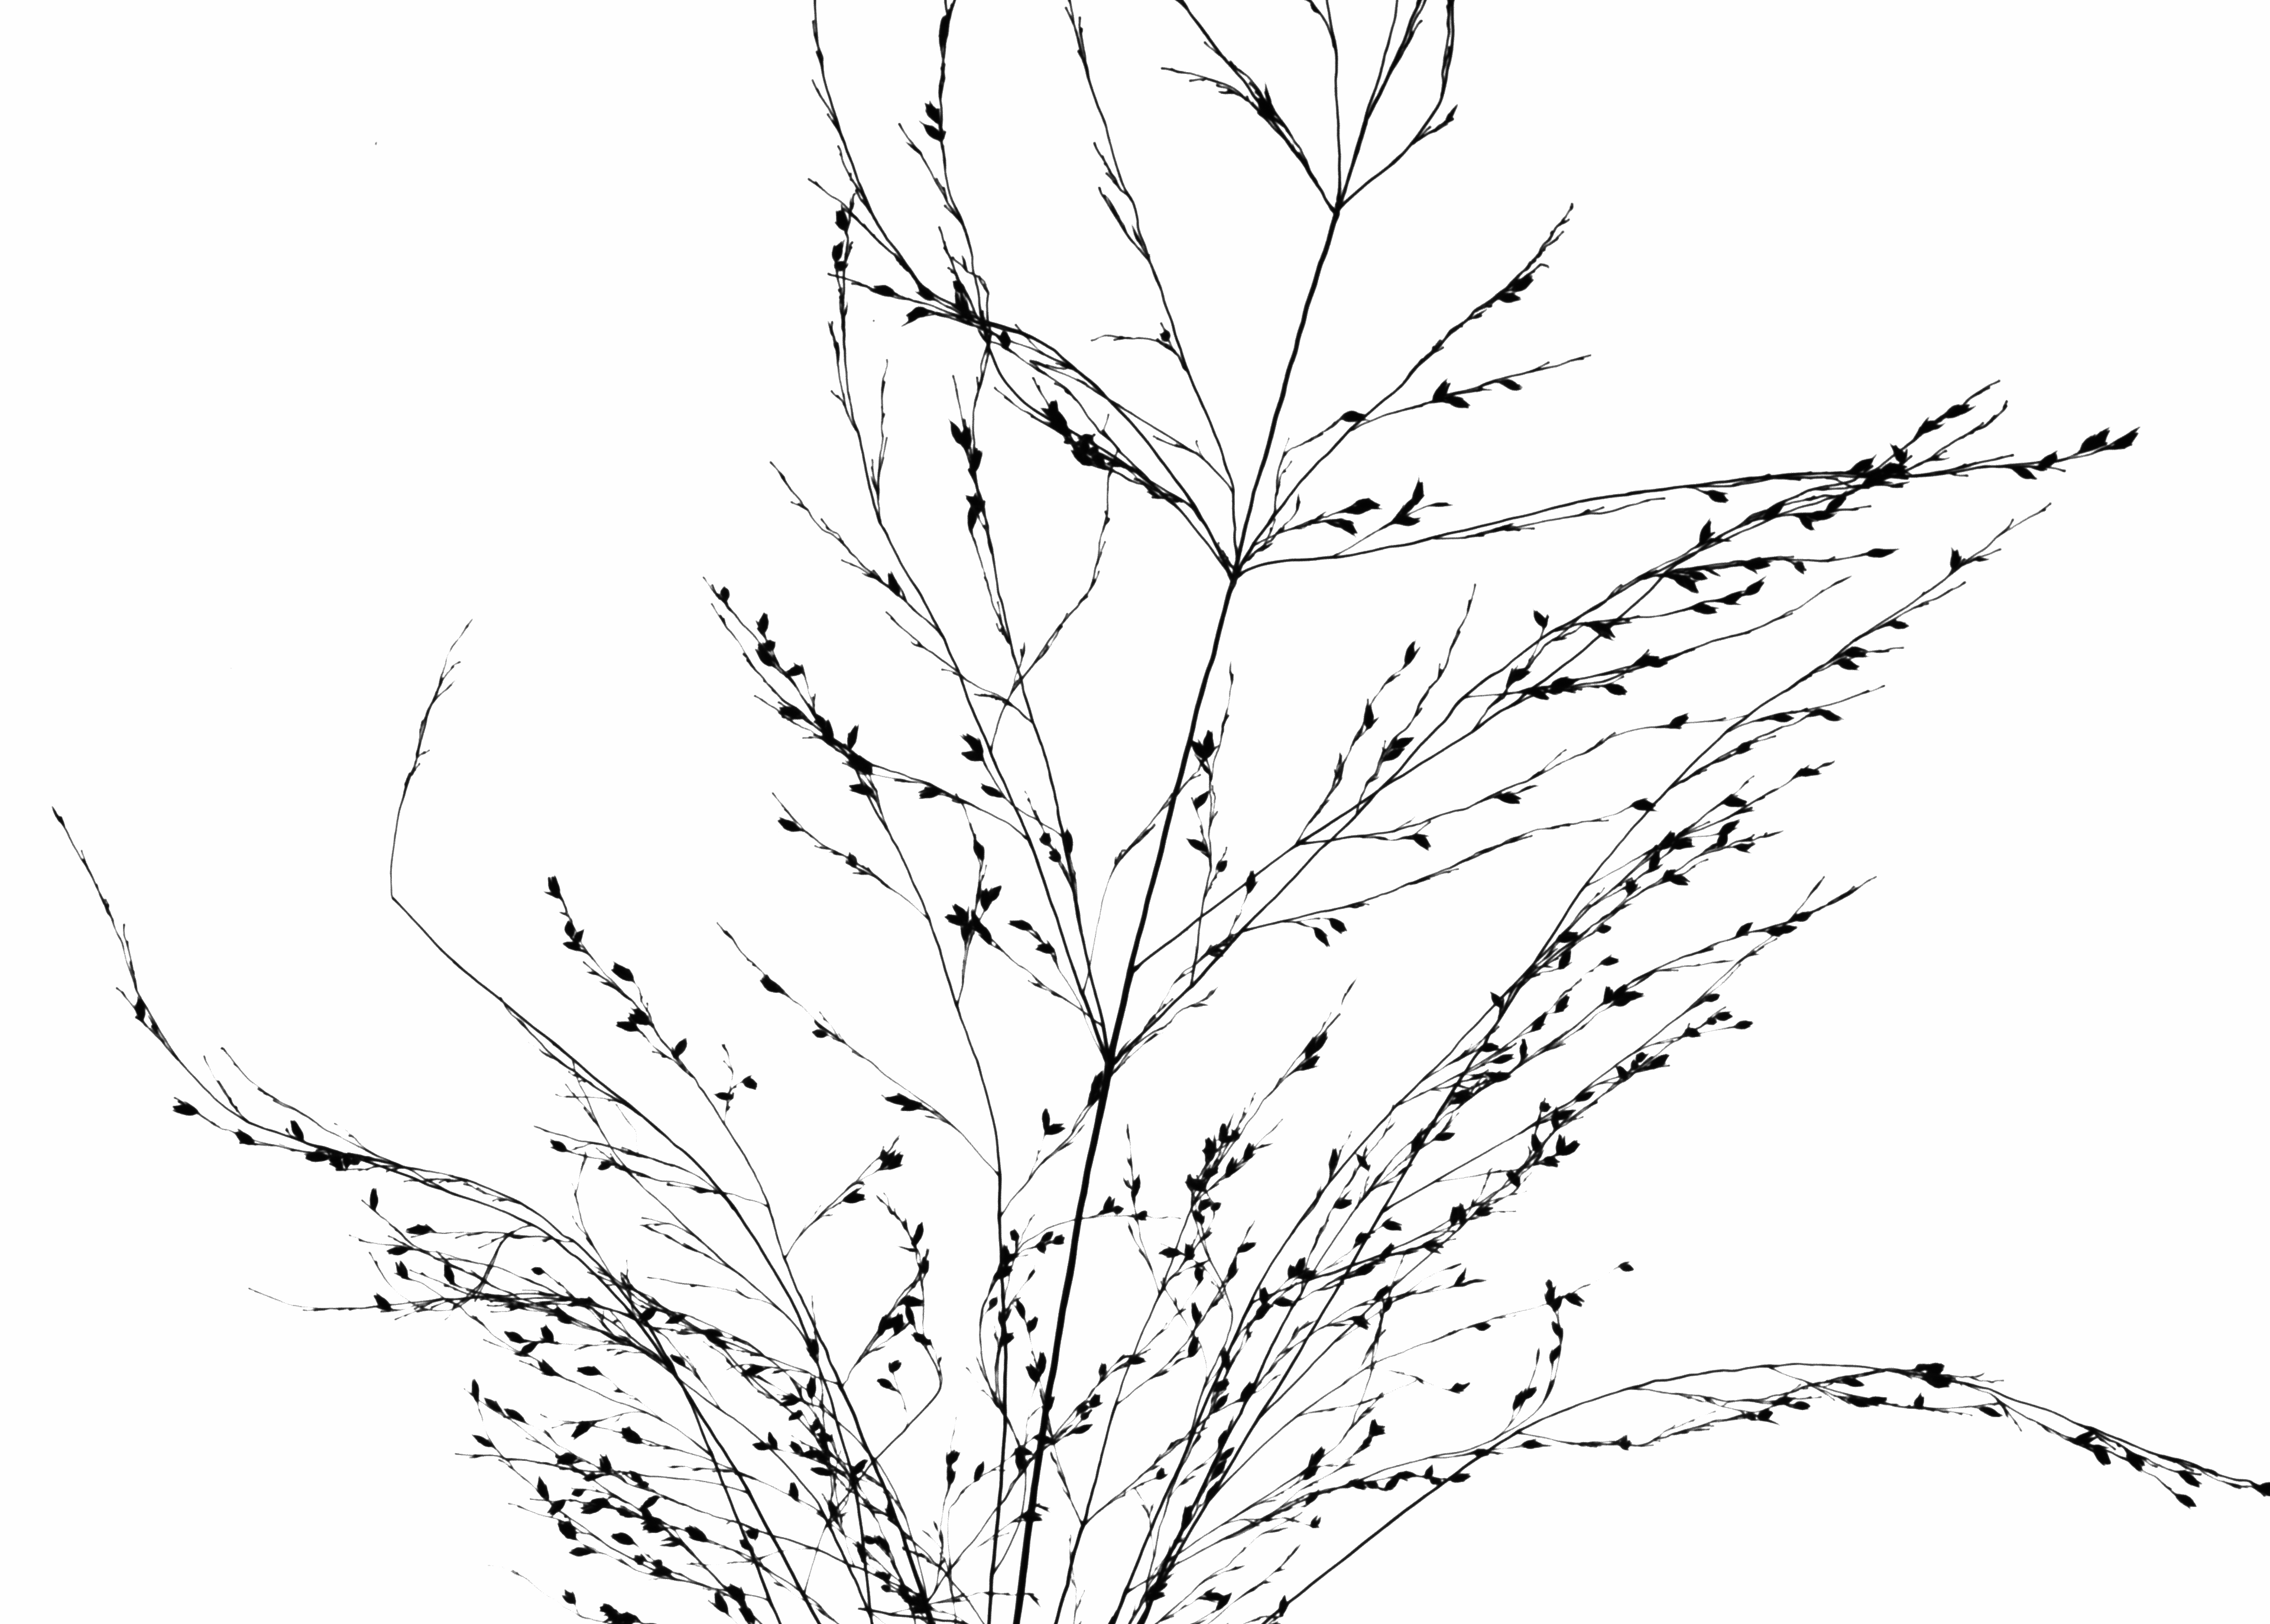seed: (2073, 425, 2112, 453), (2121, 1441, 2149, 1480), (1343, 492, 1382, 517), (2114, 424, 2143, 455), (1844, 452, 1881, 476), (1085, 1067, 1106, 1107), (1586, 617, 1619, 642), (1321, 517, 1359, 538), (232, 1127, 262, 1153), (2170, 1487, 2200, 1513), (965, 497, 986, 534), (1037, 406, 1071, 429), (2091, 1441, 2114, 1475), (2175, 1462, 2203, 1489), (756, 972, 786, 997), (1764, 497, 1788, 527), (900, 306, 932, 329), (1804, 707, 1844, 724), (1637, 652, 1670, 673), (1943, 399, 1976, 420), (610, 960, 637, 986), (571, 1417, 601, 1439), (775, 700, 805, 722), (918, 121, 948, 144), (1670, 571, 1700, 594), (1862, 543, 1901, 561), (1199, 722, 1217, 759), (1616, 988, 1642, 1012), (772, 814, 805, 833), (974, 916, 993, 949), (1442, 394, 1475, 413), (1549, 675, 1582, 694), (1920, 1373, 1954, 1392), (1187, 738, 1210, 766), (684, 1522, 712, 1545), (1071, 431, 1099, 453), (2010, 462, 2038, 485), (1308, 1026, 1331, 1055), (1343, 1309, 1371, 1332), (1976, 1401, 2004, 1424), (709, 1587, 730, 1617), (1628, 794, 1658, 816), (1836, 1369, 1866, 1390), (883, 1090, 921, 1106), (848, 780, 879, 800), (1600, 680, 1632, 700), (1217, 1341, 1236, 1373), (962, 729, 986, 754), (1825, 490, 1850, 515), (1470, 1313, 1495, 1338), (921, 98, 944, 125), (1296, 1053, 1322, 1076), (169, 1097, 197, 1118), (844, 722, 865, 750), (403, 1222, 436, 1239), (1702, 487, 1732, 506), (1347, 1260, 1377, 1280), (728, 1580, 751, 1605), (556, 1519, 580, 1541), (1069, 448, 1094, 471), (1512, 271, 1537, 294), (1888, 441, 1911, 466), (1669, 710, 1693, 733), (1611, 1429, 1633, 1454), (580, 1496, 612, 1513), (531, 1473, 552, 1499), (979, 780, 1006, 801), (1178, 1176, 1210, 1193), (1359, 698, 1377, 729), (1338, 406, 1370, 424), (2040, 448, 2061, 475), (1182, 1336, 1203, 1362), (1915, 1357, 1946, 1374), (610, 1529, 638, 1548), (897, 1292, 927, 1309), (1765, 710, 1795, 728), (753, 649, 775, 671), (1410, 831, 1433, 854), (1528, 1009, 1551, 1032), (1561, 1135, 1584, 1158), (1646, 1053, 1670, 1074), (503, 1404, 527, 1425), (371, 1292, 396, 1313), (832, 206, 853, 230), (1860, 469, 1885, 490), (1561, 1288, 1586, 1309), (1906, 1387, 1927, 1411), (1310, 923, 1329, 949), (946, 420, 965, 446), (1433, 378, 1452, 404), (1408, 1127, 1428, 1153), (971, 833, 988, 861), (955, 294, 972, 322), (997, 325, 1015, 353), (1496, 376, 1524, 394), (1401, 636, 1419, 664), (1837, 1392, 1866, 1410), (614, 1499, 637, 1520), (621, 1424, 644, 1445), (1510, 664, 1533, 685), (1352, 1149, 1373, 1172), (1368, 1413, 1389, 1436), (1308, 1443, 1329, 1466), (471, 1431, 496, 1450), (538, 1322, 557, 1346), (633, 1002, 652, 1026), (288, 1118, 308, 1142), (1718, 817, 1743, 837), (1670, 833, 1695, 852), (1554, 947, 1574, 972), (1554, 991, 1574, 1016), (1597, 949, 1621, 968), (1451, 1084, 1475, 1104), (1380, 1214, 1405, 1234), (1211, 1392, 1231, 1417), (612, 1608, 642, 1624), (552, 1450, 582, 1466), (825, 1496, 840, 1526), (575, 1362, 605, 1378), (1743, 555, 1772, 571), (1809, 508, 1839, 524), (1412, 475, 1426, 508), (1764, 923, 1797, 937), (329, 1146, 346, 1172), (547, 874, 564, 900), (830, 236, 848, 262), (1646, 849, 1663, 875), (1533, 1151, 1560, 1169), (1452, 1265, 1470, 1292), (1449, 1471, 1475, 1489), (740, 1362, 768, 1378), (886, 569, 902, 598), (1062, 824, 1076, 856), (972, 1457, 988, 1485), (1495, 791, 1523, 807), (969, 446, 985, 475), (913, 288, 941, 304), (1491, 292, 1523, 306), (1692, 599, 1720, 615), (1697, 518, 1713, 547), (1721, 793, 1750, 808), (1709, 831, 1730, 852), (1735, 919, 1757, 940), (1528, 1130, 1544, 1158), (1294, 1250, 1310, 1278), (1349, 1229, 1370, 1250), (737, 1605, 760, 1624), (598, 1601, 621, 1620), (709, 1334, 731, 1353), (547, 1135, 570, 1155), (738, 1072, 761, 1091), (877, 1148, 897, 1171), (951, 900, 971, 923), (967, 494, 990, 513), (1530, 606, 1549, 629), (1744, 578, 1767, 598), (1206, 1462, 1229, 1482), (1451, 1376, 1473, 1396), (596, 1450, 614, 1475), (786, 1478, 804, 1503), (909, 1222, 927, 1246), (1183, 837, 1208, 854), (1380, 747, 1405, 765), (1593, 921, 1618, 939), (1790, 907, 1815, 924), (1505, 1165, 1523, 1190), (1240, 1376, 1257, 1401), (1517, 1434, 1542, 1452), (1867, 1392, 1892, 1410), (566, 1545, 596, 1559), (385, 1243, 415, 1257), (132, 991, 146, 1021), (957, 749, 986, 763), (1456, 1200, 1470, 1230), (441, 1258, 457, 1285), (1008, 917, 1034, 933), (1011, 1445, 1027, 1471), (1124, 1352, 1150, 1367), (1201, 1134, 1217, 1160), (1389, 735, 1415, 750), (1524, 687, 1551, 703), (1683, 566, 1709, 582), (1475, 1039, 1502, 1055), (1328, 1197, 1354, 1213), (547, 1497, 568, 1517), (484, 1394, 503, 1415), (640, 1304, 661, 1323), (536, 1357, 557, 1376), (877, 1315, 897, 1336), (788, 661, 807, 682), (1192, 787, 1211, 808), (1373, 1281, 1393, 1302), (1071, 1420, 1094, 1438), (874, 281, 897, 299), (805, 1373, 819, 1401), (301, 1149, 329, 1164), (942, 912, 971, 926), (1883, 460, 1911, 475), (1795, 765, 1823, 779), (1516, 1033, 1530, 1062), (1681, 1025, 1706, 1040), (673, 1035, 689, 1060), (872, 1378, 897, 1394), (909, 1330, 934, 1346), (756, 610, 772, 634), (916, 782, 941, 798), (1020, 1508, 1044, 1524), (1226, 1255, 1241, 1280), (1051, 397, 1062, 434), (1915, 418, 1939, 434), (1734, 838, 1758, 854), (1556, 930, 1581, 946), (1155, 1243, 1180, 1258), (1326, 1144, 1338, 1176), (1396, 1466, 1421, 1482), (554, 1306, 573, 1325), (1329, 916, 1349, 935), (1217, 1591, 1236, 1610), (557, 1587, 578, 1605), (642, 1492, 663, 1510), (468, 1376, 482, 1403), (670, 1352, 691, 1369), (805, 1336, 823, 1357), (614, 1019, 640, 1033), (888, 1151, 906, 1172), (844, 1192, 870, 1206), (1245, 870, 1259, 896), (1048, 1118, 1066, 1139), (993, 1264, 1015, 1281), (949, 278, 971, 295), (1797, 511, 1815, 533), (1836, 659, 1862, 673), (1553, 1130, 1567, 1156), (1380, 1241, 1398, 1262), (1226, 1153, 1240, 1179), (1243, 1137, 1257, 1164), (1208, 1378, 1229, 1396), (1254, 1301, 1271, 1322), (1509, 1392, 1526, 1413), (1618, 1255, 1635, 1276), (960, 917, 972, 947), (665, 1309, 688, 1325), (767, 1429, 782, 1452), (503, 1329, 526, 1345), (626, 1011, 649, 1026), (1101, 1192, 1117, 1214), (1493, 1051, 1516, 1067), (1473, 1204, 1496, 1220), (1433, 1130, 1456, 1146), (1190, 1262, 1206, 1285), (1236, 1237, 1259, 1253), (1273, 1294, 1296, 1309), (1145, 1589, 1168, 1605), (1201, 1587, 1224, 1603), (1547, 1345, 1563, 1367), (872, 1568, 897, 1582), (877, 1533, 891, 1557), (1129, 1172, 1143, 1197), (1394, 517, 1422, 529), (1720, 592, 1744, 606), (1948, 545, 1962, 569), (1843, 647, 1871, 659), (1887, 617, 1911, 631), (1574, 1088, 1598, 1102), (1190, 1301, 1204, 1325), (886, 1355, 904, 1374), (1792, 559, 1811, 576), (1489, 988, 1507, 1007), (1217, 1443, 1236, 1461), (1347, 1475, 1366, 1492), (804, 1445, 825, 1461), (788, 1438, 804, 1459), (749, 1436, 770, 1452), (345, 1151, 366, 1167), (1023, 1364, 1039, 1385), (1623, 875, 1639, 896), (1551, 1318, 1567, 1339), (1468, 1443, 1489, 1459), (2073, 1429, 2094, 1445), (367, 1185, 380, 1211), (979, 886, 992, 912), (1598, 979, 1611, 1005), (1549, 1104, 1561, 1130), (904, 1304, 918, 1327), (1034, 940, 1057, 954), (1013, 1295, 1027, 1318), (1669, 874, 1692, 888), (1489, 1072, 1512, 1086), (1734, 1018, 1757, 1032), (1183, 1239, 1197, 1262), (1380, 1294, 1394, 1316), (1790, 1397, 1813, 1411), (564, 1295, 594, 1306), (596, 1156, 614, 1174), (571, 928, 589, 946), (944, 1446, 962, 1464), (1521, 1383, 1539, 1401), (1157, 327, 1173, 346), (853, 1457, 869, 1476), (988, 882, 1004, 902), (1215, 856, 1231, 875), (1088, 1392, 1104, 1411), (1758, 1404, 1774, 1424), (809, 1466, 833, 1478), (899, 1102, 923, 1114), (1037, 1350, 1050, 1374), (1217, 1120, 1229, 1144), (1556, 1107, 1577, 1121), (714, 1088, 735, 1102), (717, 582, 731, 603), (1041, 1106, 1051, 1134), (1257, 1281, 1271, 1302), (1774, 1392, 1795, 1406), (853, 1538, 865, 1561), (399, 1258, 411, 1281), (1614, 1063, 1630, 1081), (738, 1538, 756, 1554), (746, 1524, 761, 1541), (640, 1504, 656, 1522), (700, 1327, 726, 1338), (1004, 1250, 1022, 1265), (1008, 1225, 1023, 1243), (999, 1330, 1016, 1346), (1227, 1125, 1243, 1142), (1182, 1501, 1192, 1527), (786, 1408, 805, 1422), (811, 1026, 830, 1040), (846, 851, 860, 870), (999, 1304, 1013, 1323), (1025, 1315, 1039, 1334), (661, 1536, 682, 1548), (816, 1431, 837, 1443), (893, 1311, 904, 1336), (1097, 1359, 1110, 1380), (1553, 1292, 1565, 1313), (628, 1468, 644, 1483), (1046, 847, 1062, 863), (1208, 944, 1224, 960), (1190, 1209, 1206, 1225), (1197, 1197, 1213, 1213), (833, 258, 849, 274), (1384, 1475, 1400, 1490), (1743, 1408, 1758, 1424), (1039, 828, 1053, 845), (986, 1294, 1000, 1311), (1539, 1095, 1553, 1113), (1310, 1513, 1324, 1531), (1544, 1287, 1558, 1304), (578, 1471, 601, 1482), (777, 1397, 800, 1408), (946, 1466, 957, 1489), (1702, 991, 1721, 1004), (392, 1260, 404, 1280), (561, 940, 582, 951), (763, 638, 779, 652), (1155, 1464, 1166, 1485), (1277, 1592, 1287, 1613), (1716, 1011, 1734, 1023), (570, 1485, 587, 1497), (1447, 1200, 1456, 1225), (811, 1413, 821, 1432), (564, 917, 575, 937), (1635, 1049, 1649, 1063), (524, 1339, 538, 1353), (1053, 1232, 1067, 1246), (1041, 1227, 1053, 1243), (1428, 1475, 1444, 1487), (635, 1478, 652, 1489), (513, 1348, 531, 1359), (529, 1265, 547, 1276), (1131, 1211, 1148, 1222), (1424, 1459, 1433, 1480), (1706, 1014, 1720, 1026), (862, 1533, 876, 1545), (1113, 1204, 1127, 1216), (1037, 1237, 1046, 1257), (1630, 1056, 1641, 1072), (1364, 1480, 1380, 1490), (1544, 1278, 1554, 1292), (881, 1584, 893, 1594), (1211, 1200, 1224, 1211), (1285, 1264, 1296, 1276)
